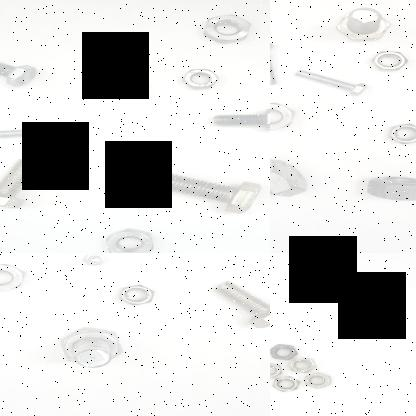Bolts: (152, 170, 262, 218), (56, 323, 134, 370), (208, 272, 270, 330), (326, 5, 394, 46), (0, 154, 45, 214), (292, 67, 369, 100), (204, 104, 270, 139), (270, 156, 313, 209), (0, 58, 43, 92), (0, 122, 61, 141), (78, 253, 110, 274), (270, 36, 280, 88)
NUTS: (362, 170, 416, 206), (198, 11, 252, 46), (97, 225, 158, 253), (115, 280, 161, 314), (0, 261, 37, 297), (369, 47, 413, 75), (270, 101, 306, 135), (102, 73, 146, 100), (176, 67, 224, 91), (382, 121, 416, 148), (270, 374, 300, 394), (286, 355, 316, 374), (301, 372, 332, 390), (270, 342, 299, 360), (270, 361, 284, 379)
